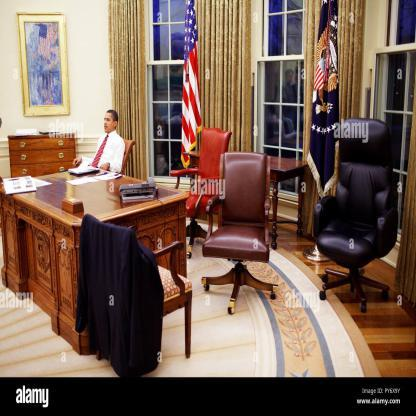chair: (312, 107, 401, 322), (79, 220, 192, 362), (195, 152, 284, 310), (169, 125, 231, 214), (111, 132, 144, 173)
table: (0, 163, 186, 356)
